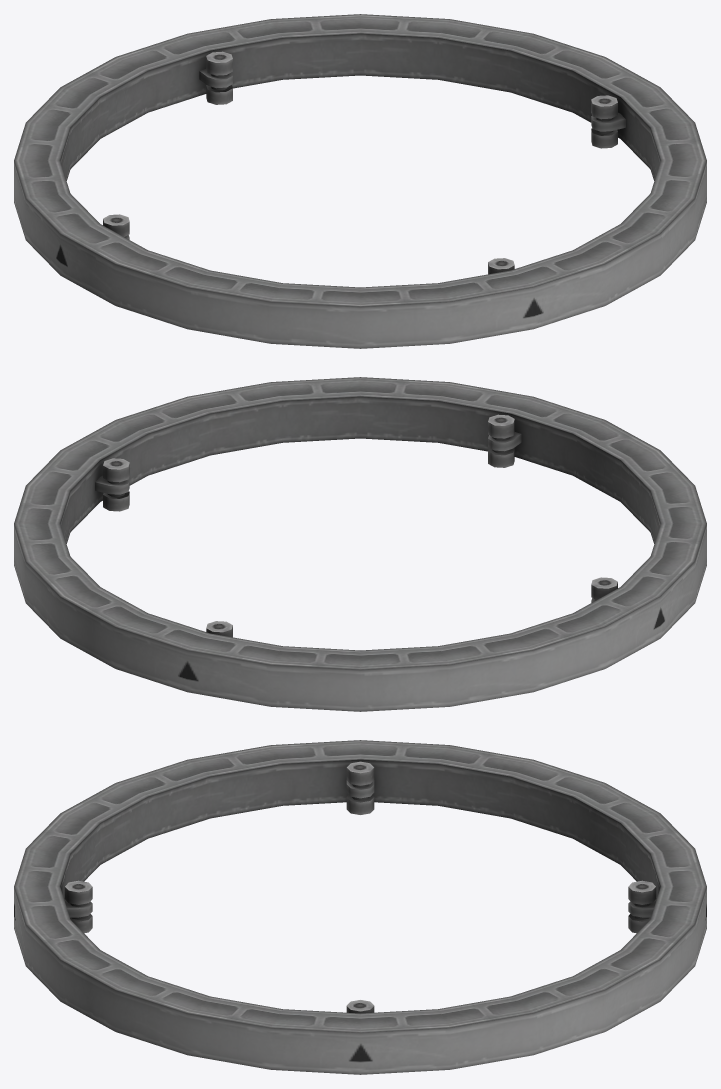
The model's file is castor_decoupler_s1p5_1.obj.
The picture shows the model from 3 angles, top to bottom: view 1: azimuth 30°, elevation 25°; view 2: azimuth 150°, elevation 25°; view 3: azimuth 270°, elevation 25°; orthographic projection.
Parts seen in each view (by area): view 1: mesh1; view 2: mesh1; view 3: mesh1.
Boxes of the visible parts, bbox=[...] form: mesh1: bbox=[14, 14, 706, 348]; mesh1: bbox=[14, 377, 706, 711]; mesh1: bbox=[14, 740, 706, 1074].
Bounding box in the file's own units: 1.88 × 0.125 × 1.88.
1 material, 1 textured.
